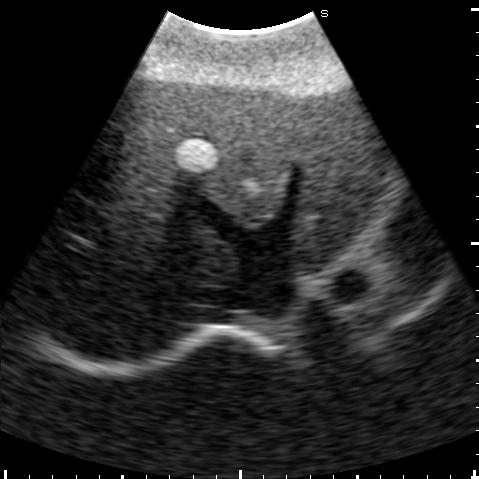S2: (296, 95, 386, 273)
S4: (119, 81, 306, 221)
S7: (36, 254, 181, 362)
S8: (82, 149, 232, 286)
Tumor: (176, 138, 218, 172)
